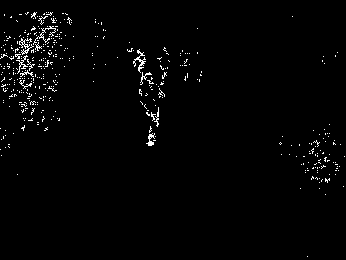person: (136, 72, 164, 146)
